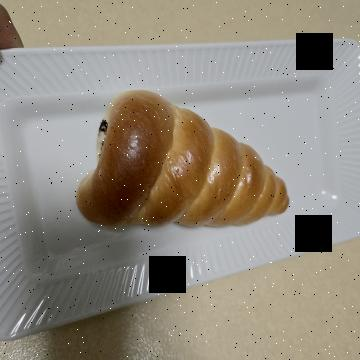cream horn: (82, 57, 255, 298)
